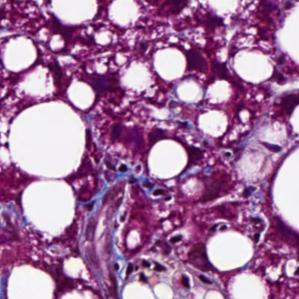inflammation: (95, 153, 164, 203)
